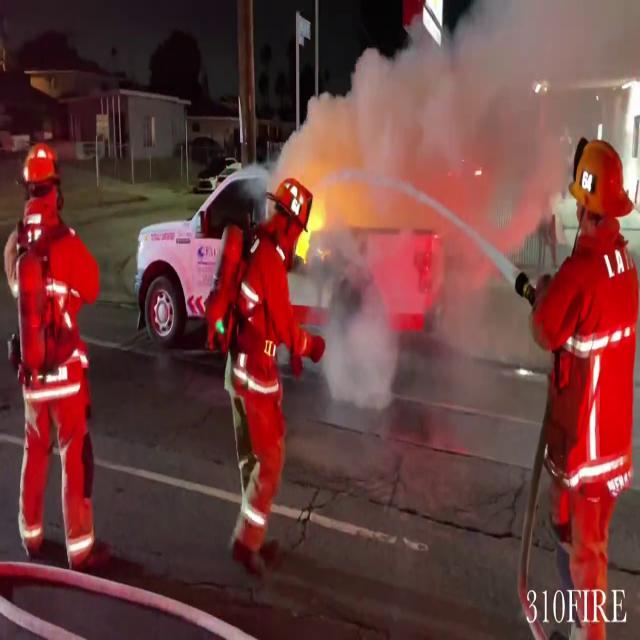Smoke: (284, 0, 608, 402)
